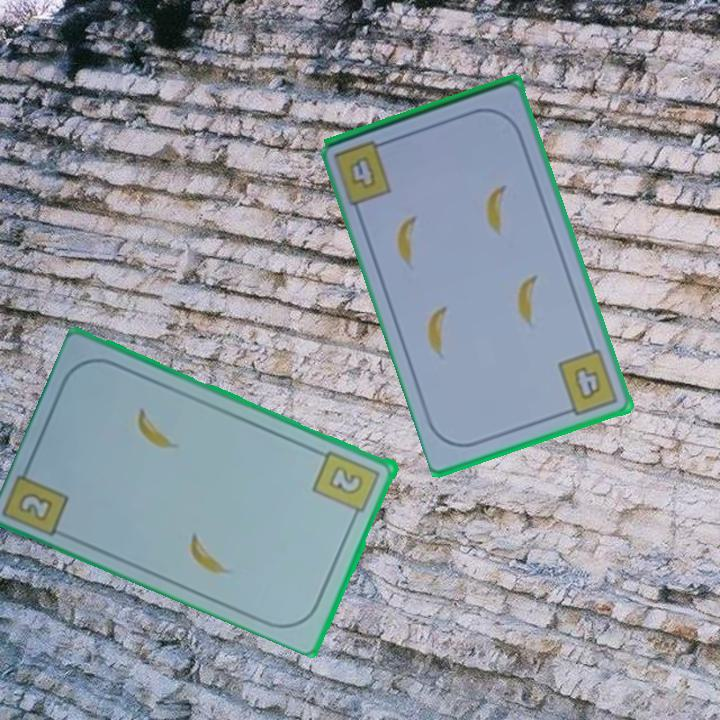2b: (310, 446, 384, 523), (15, 489, 56, 524)
4b: (554, 345, 622, 419), (345, 152, 379, 193)
